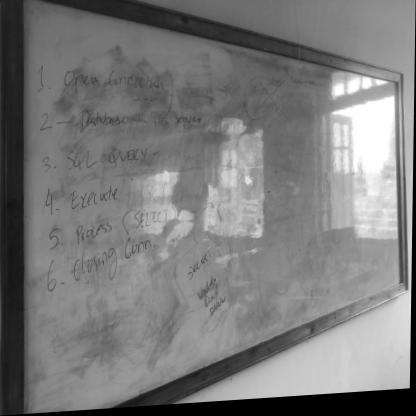Handwritten text: (57, 56, 174, 104), (70, 208, 181, 243), (67, 240, 157, 283), (61, 137, 160, 175), (65, 176, 135, 213), (71, 100, 134, 135)
Whiteboard: (22, 0, 407, 415)
